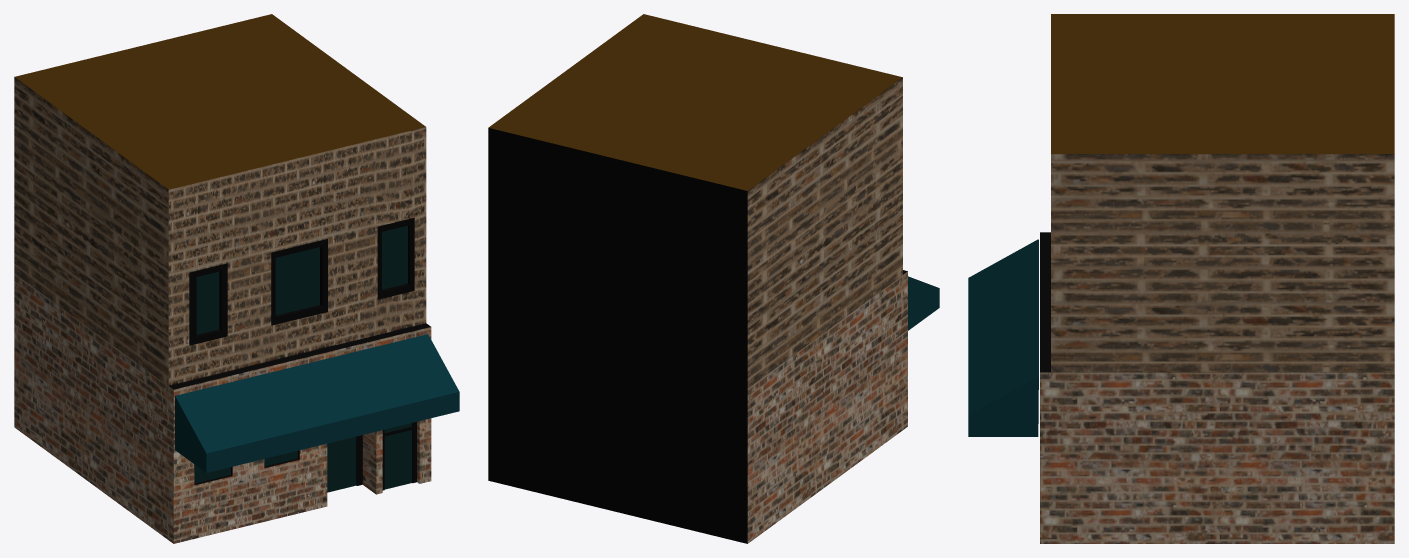
File: store 2.fbx
The picture shows the model from 3 angles, left to right: view 1: azimuth 30°, elevation 25°; view 2: azimuth 150°, elevation 25°; view 3: azimuth 270°, elevation 25°; orthographic projection. The views are drawn at different scales.
Visible parts, largest first — view 1: Cube, Plane; view 2: Cube, Plane; view 3: Cube, Plane.
Part boxes in pixels (left/top/right/bottom): Cube: left=14, top=14, right=431, bottom=543; Plane: left=175, top=334, right=459, bottom=472; Cube: left=488, top=14, right=907, bottom=543; Plane: left=908, top=276, right=939, bottom=330; Cube: left=1040, top=14, right=1394, bottom=543; Plane: left=968, top=239, right=1038, bottom=436.
Bounding box in the file's own units: 741 × 964 × 954.
